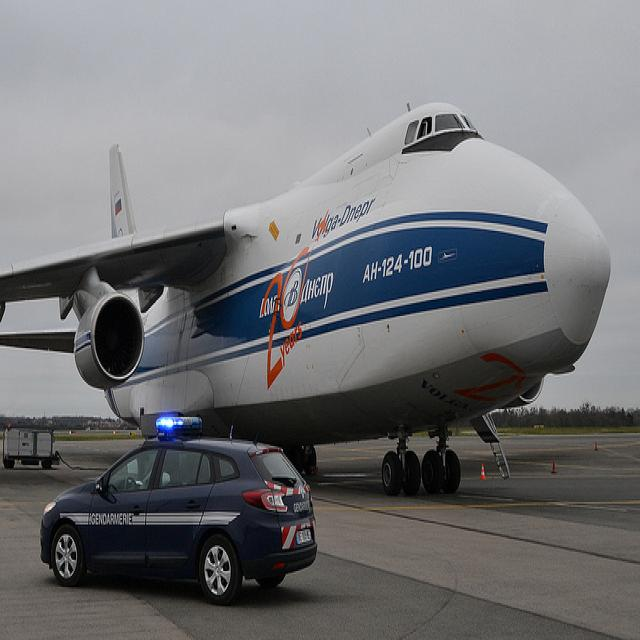Vehicle: (39, 414, 318, 606)
